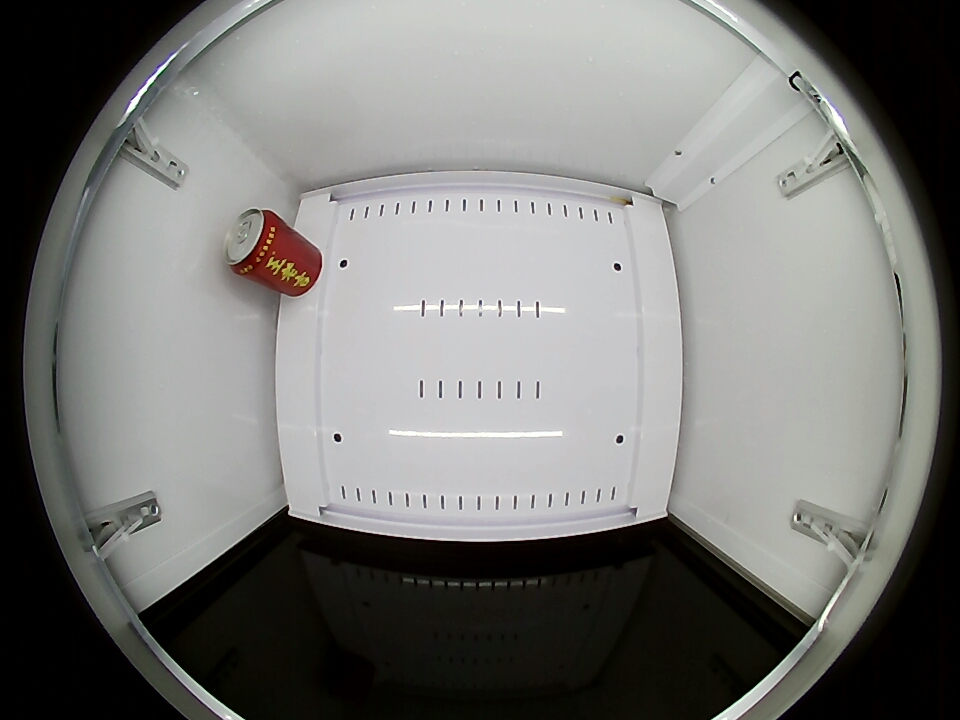wanglaoji-c: (224, 207, 281, 276)
